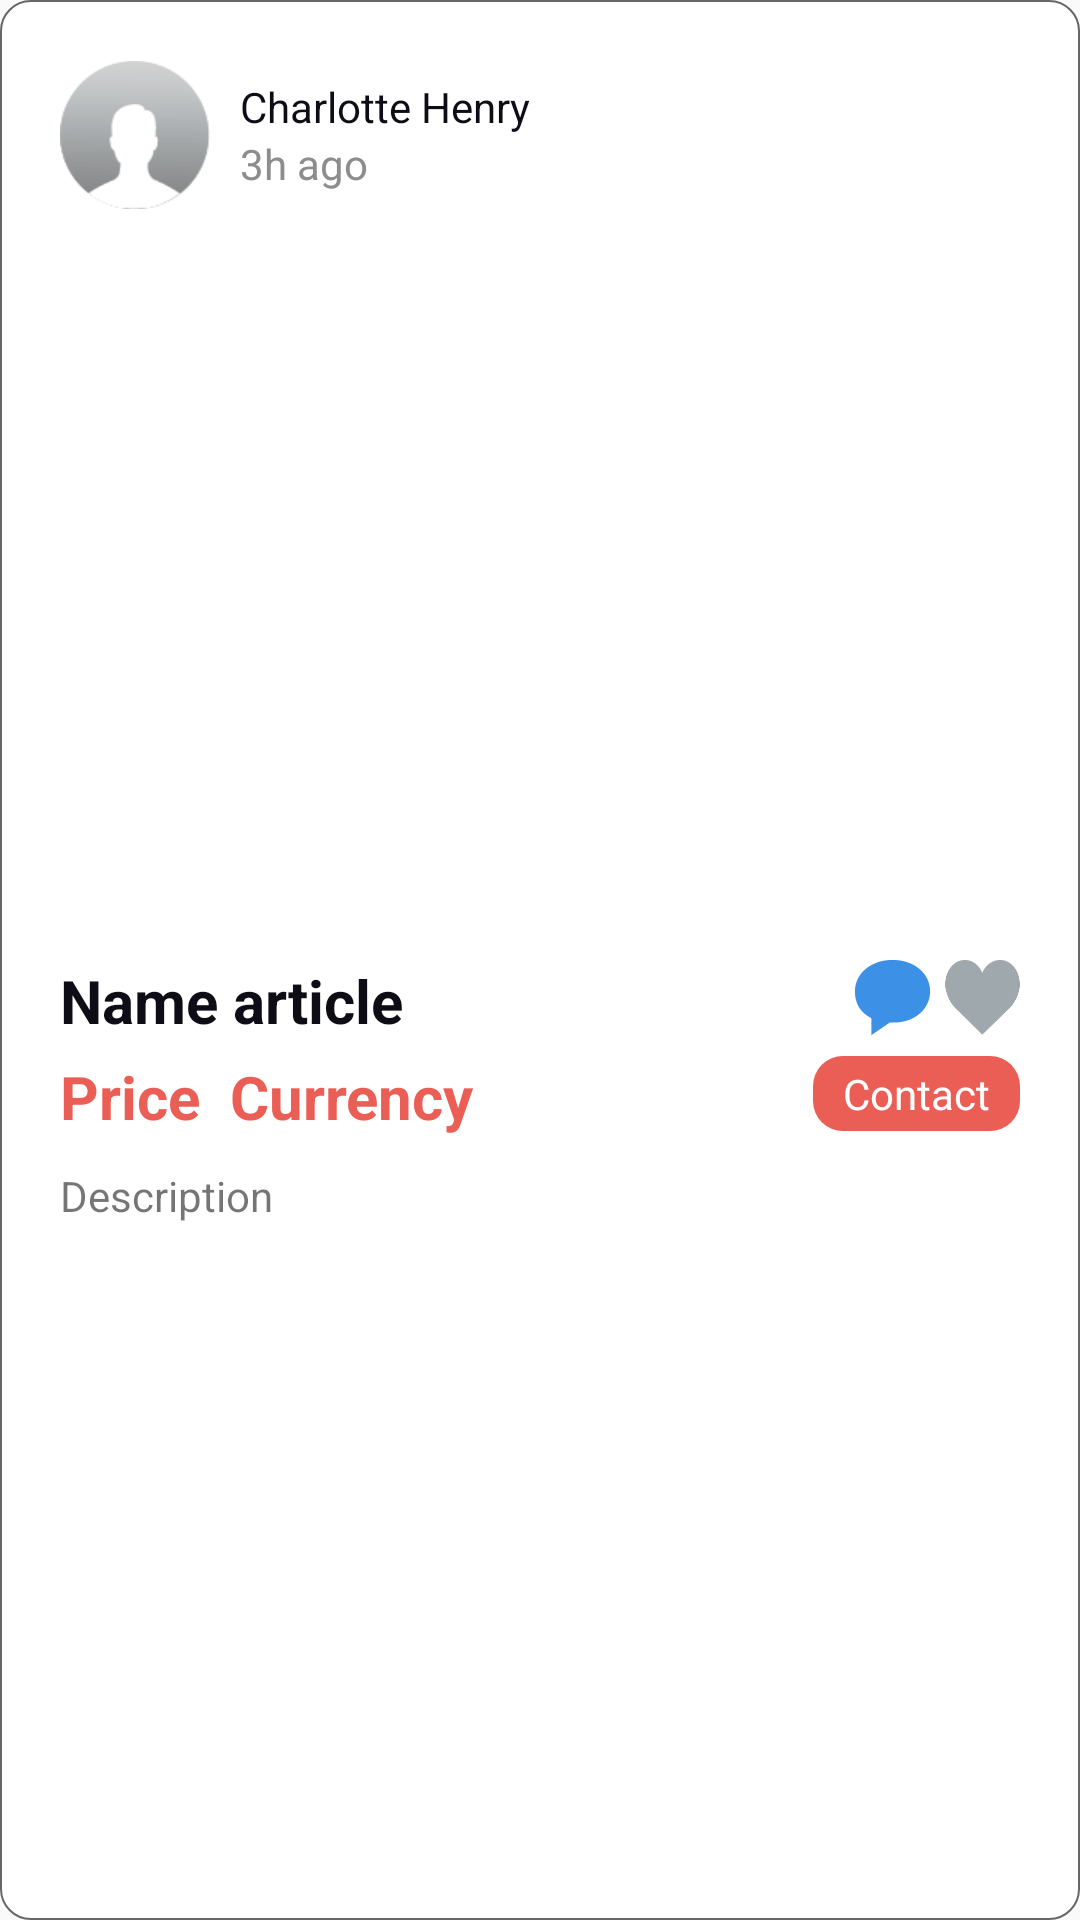

Named icons in this screenshot (1080×1920) and their centers, point (x, y):
like: point (982, 997)
message: point (892, 997)
profile: point (134, 135)
